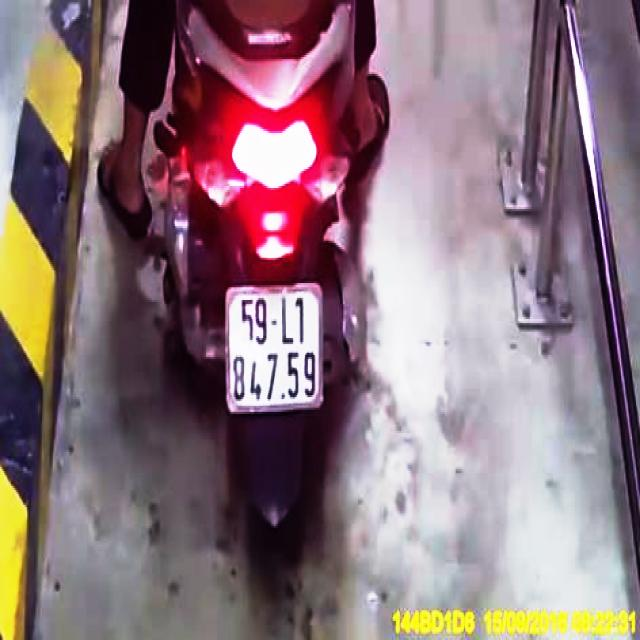license_plate: (228, 284, 323, 412)
